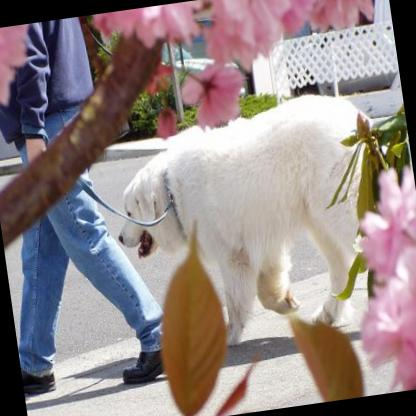Great_Pyrenees: (100, 82, 402, 354)
